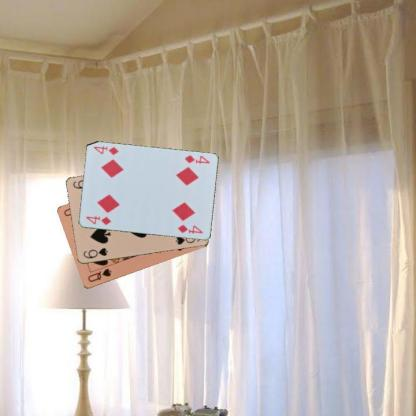4d: (83, 213, 112, 227), (182, 153, 211, 165)
6s: (80, 245, 110, 260)
Qs: (85, 266, 113, 284)
